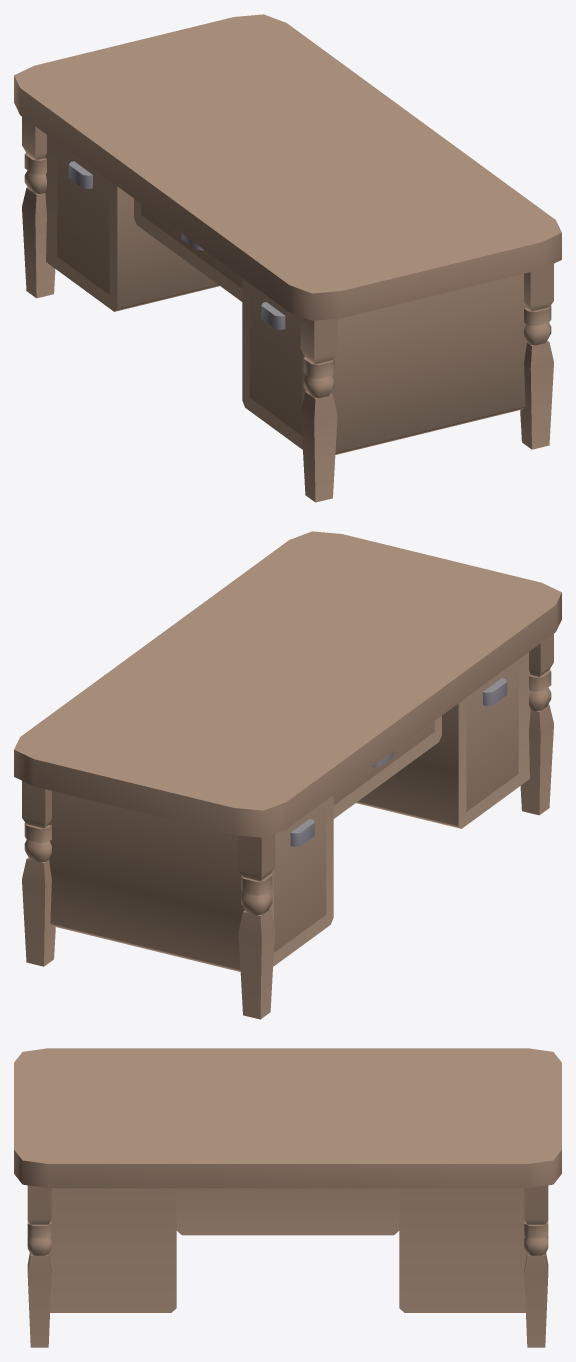
Rendered from desk-classic-cabinets_0.glb.
3 views of the same model, one above another, from view 1: azimuth 30°, elevation 25°; view 2: azimuth 150°, elevation 25°; view 3: azimuth 270°, elevation 25° (orthographic). The views are drawn at different scales.
Visible parts, largest first — view 1: desk-classic-cabinets; view 2: desk-classic-cabinets; view 3: desk-classic-cabinets.
Part boxes in pixels (bbox=[...]): desk-classic-cabinets: bbox=[14, 14, 561, 502]; desk-classic-cabinets: bbox=[14, 531, 561, 1019]; desk-classic-cabinets: bbox=[14, 1048, 561, 1347].
Bounding box in the file's own units: 0.8 × 0.6146 × 1.6.
